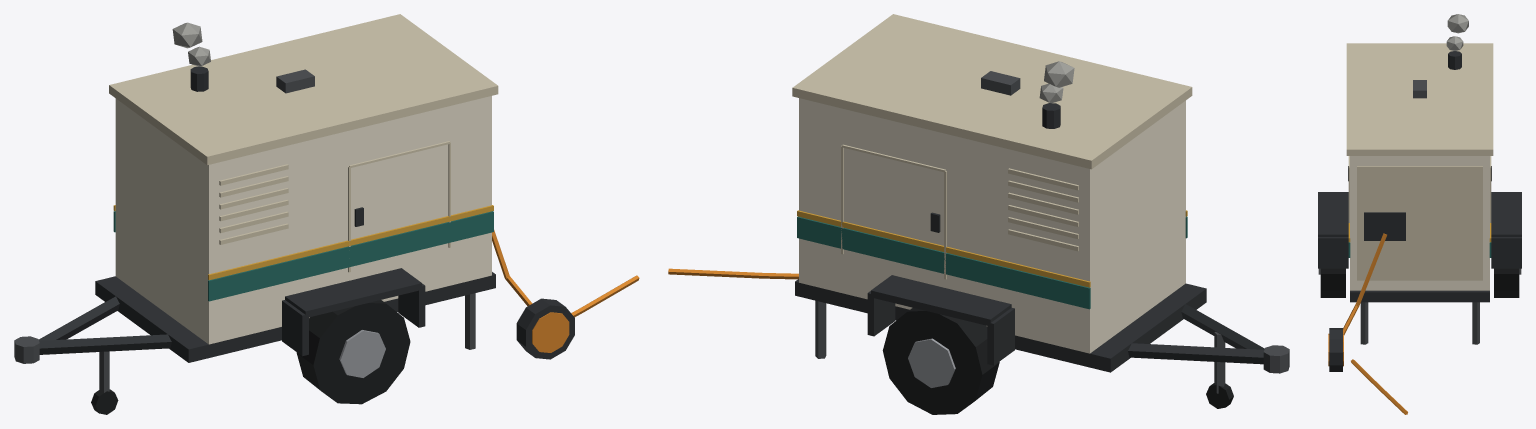
File: lwf_hire_generator_normal_v1.glb
3 views of the same model, side by side, from view 1: azimuth 30°, elevation 25°; view 2: azimuth 150°, elevation 25°; view 3: azimuth 270°, elevation 25° (orthographic). The views are drawn at different scales.
Parts seen in each view (by area): view 1: LWF_HireGenerator_Base, LWF_HireGenerator_State_Normal; view 2: LWF_HireGenerator_Base, LWF_HireGenerator_State_Normal; view 3: LWF_HireGenerator_Base, LWF_HireGenerator_State_Normal.
Boxes of the visible parts, x1,y1,x2,y2 form: LWF_HireGenerator_Base: (14,14,639,414); LWF_HireGenerator_State_Normal: (172,22,532,306); LWF_HireGenerator_Base: (668,14,1289,414); LWF_HireGenerator_State_Normal: (1039,61,1074,128); LWF_HireGenerator_Base: (1318,43,1521,414); LWF_HireGenerator_State_Normal: (1343,14,1468,335).
Bounding box in the file's own units: 3.79 × 2.02 × 1.46.
1 material, 1 textured.
